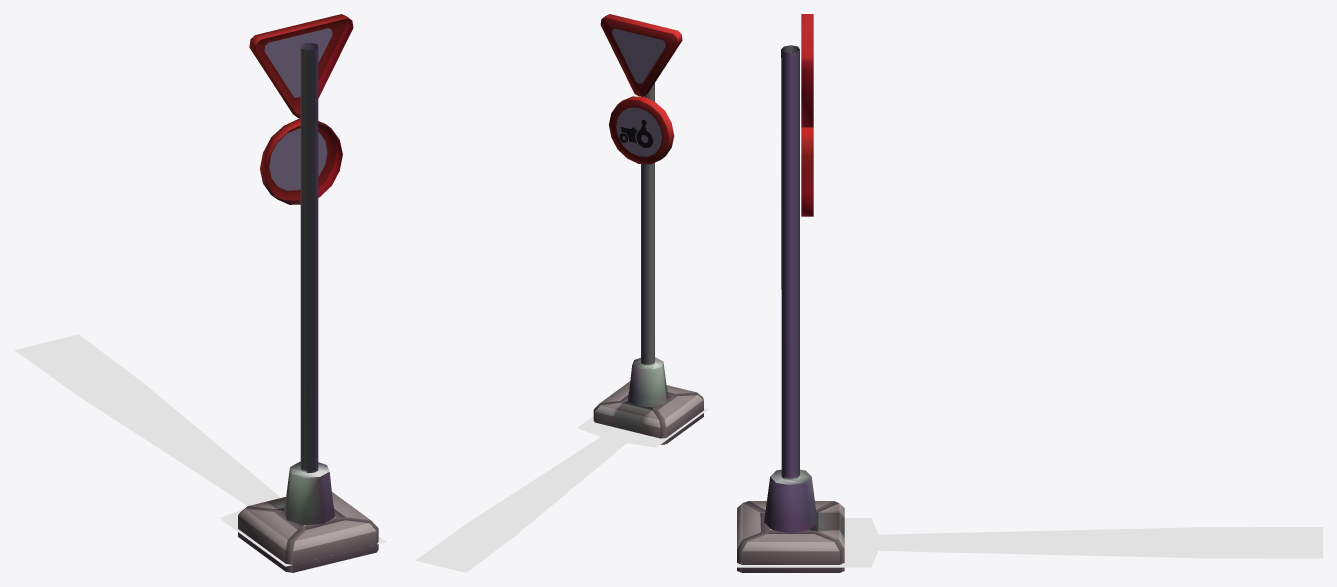
The model's file is City_SideBump_Sign01 1.fbx.
3 views of the same model, side by side, from view 1: azimuth 30°, elevation 25°; view 2: azimuth 150°, elevation 25°; view 3: azimuth 270°, elevation 25° (orthographic). The views are drawn at different scales.
Parts seen in each view (by area): view 1: city_sideBump_sign01, trafficLightShadow; view 2: city_sideBump_sign01, trafficLightShadow; view 3: city_sideBump_sign01, trafficLightShadow.
Part boxes in pixels (bbox=[...]): city_sideBump_sign01: bbox=[238, 14, 378, 572]; trafficLightShadow: bbox=[14, 334, 386, 566]; city_sideBump_sign01: bbox=[593, 14, 703, 444]; trafficLightShadow: bbox=[415, 408, 708, 572]; city_sideBump_sign01: bbox=[737, 14, 844, 572]; trafficLightShadow: bbox=[737, 518, 1322, 567].
Bounding box in the file's own units: 70.46 × 339 × 349.
